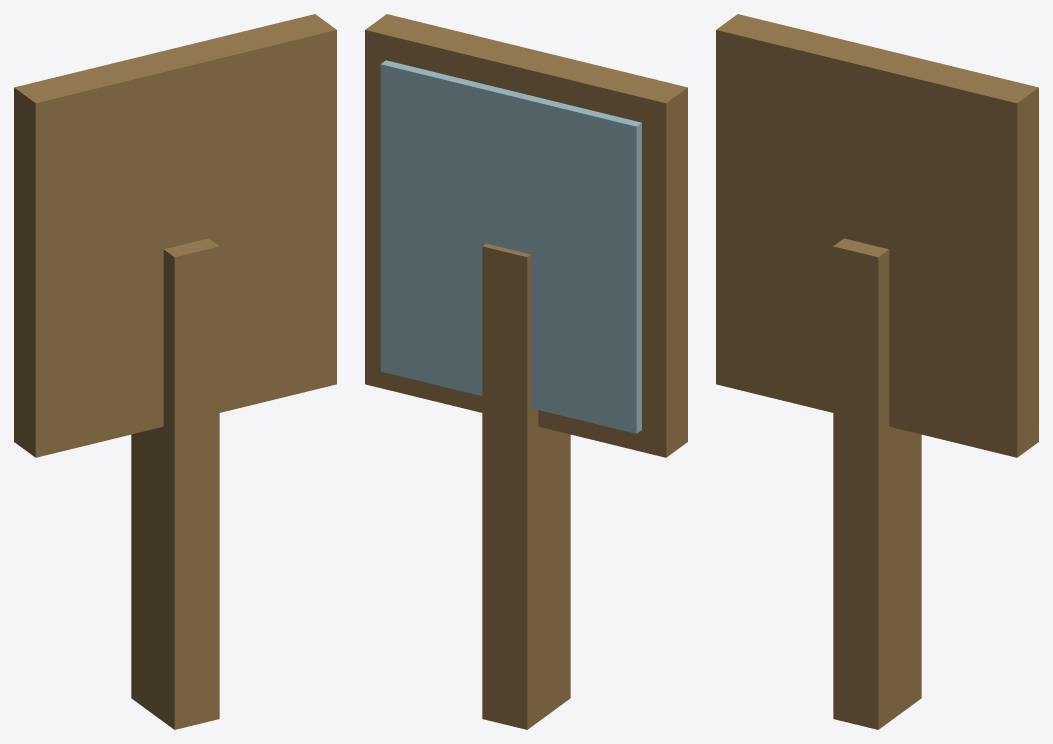
The model's file is mirror_plinth.glb.
3 views of the same model, side by side, from view 1: azimuth 30°, elevation 25°; view 2: azimuth 150°, elevation 25°; view 3: azimuth 330°, elevation 25° (orthographic).
Parts seen in each view (by area): view 1: rim, stand; view 2: glass, rim, stand; view 3: rim, stand.
Part boxes in pixels (<box>): rim: <box>14,14,336,457</box>; stand: <box>131,238,219,729</box>; glass: <box>380,60,641,433</box>; rim: <box>365,14,687,457</box>; stand: <box>482,243,570,729</box>; rim: <box>716,14,1038,457</box>; stand: <box>833,238,921,729</box>.
Bounding box in the file's own units: 0.8 × 1.65 × 0.2.
